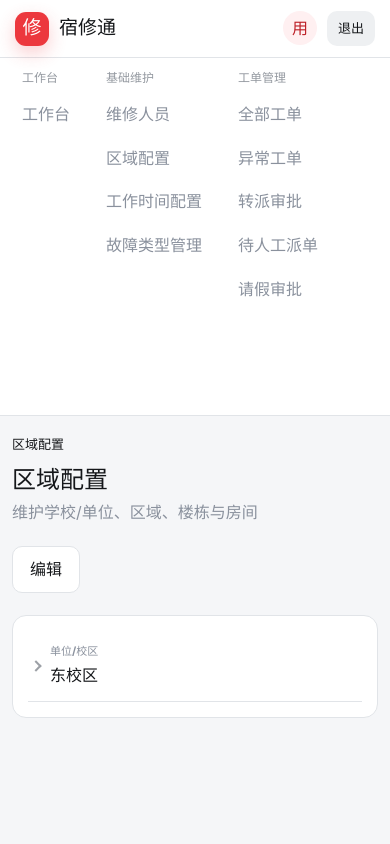
Test: 区域配置页 › 编辑态点击 + 打开添加下级弹窗，标题为子级类型
This screenshot has width=390, height=844.
Click the button "编辑" at (46, 570), box x1=12 y1=546 x2=80 y2=594
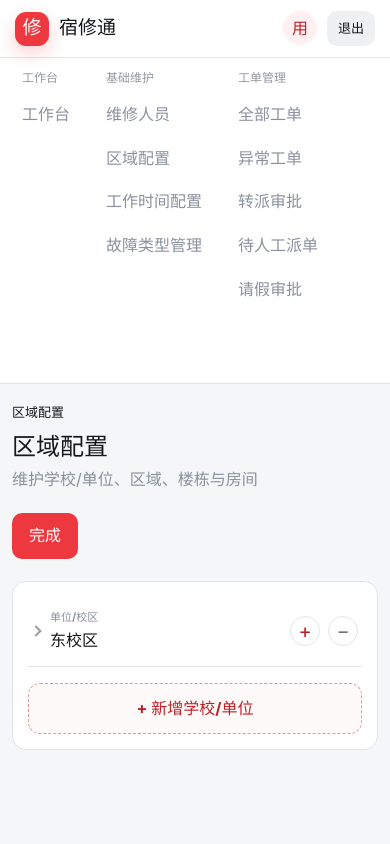
Click the button with class "add" at (305, 631), box x1=290 y1=616 x2=320 y2=646
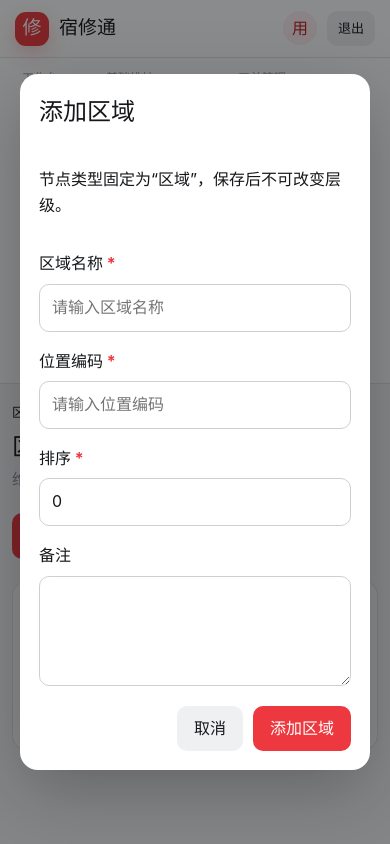
Check: the dialog with class "modal" is shown
Check: the heading "添加区域" is shown, box x1=39 y1=97 x2=135 y2=126
Check: the dialog with class "modal" shows "节点类型固定为“区域”", box x1=39 y1=169 x2=341 y2=215
